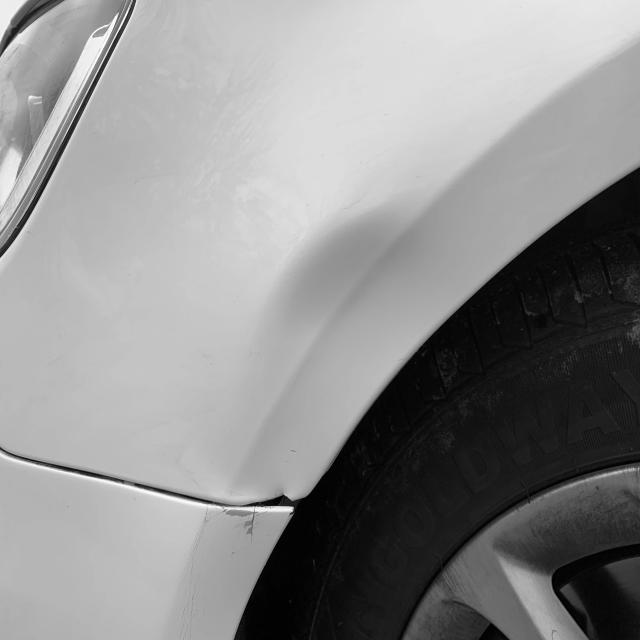dent: (216, 195, 452, 501)
misalignment: (241, 493, 294, 506)
scratch: (177, 503, 275, 640), (230, 546, 247, 558), (288, 507, 295, 519), (290, 449, 297, 453)
